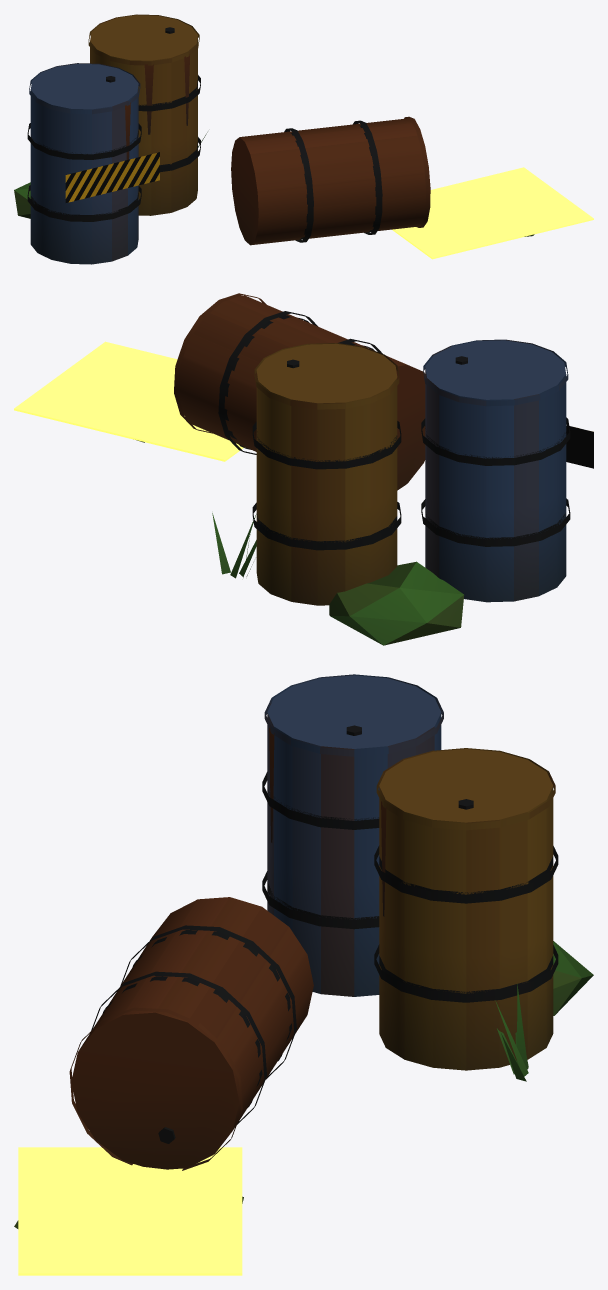
The model's file is rusted_barrels.glb.
3 renders of one model, top to bottom at view 1: azimuth 30°, elevation 25°; view 2: azimuth 150°, elevation 25°; view 3: azimuth 270°, elevation 25°, orthographic. The views are drawn at different scales.
Parts seen in each view (by area): view 1: Mesh; view 2: Mesh; view 3: Mesh.
Part boxes in pixels (left/top/right/bottom): Mesh: left=14, top=14, right=593, bottom=264; Mesh: left=14, top=293, right=593, bottom=645; Mesh: left=14, top=674, right=593, bottom=1275.
Bounding box in the file's own units: 3.37 × 1.19 × 2.33.
